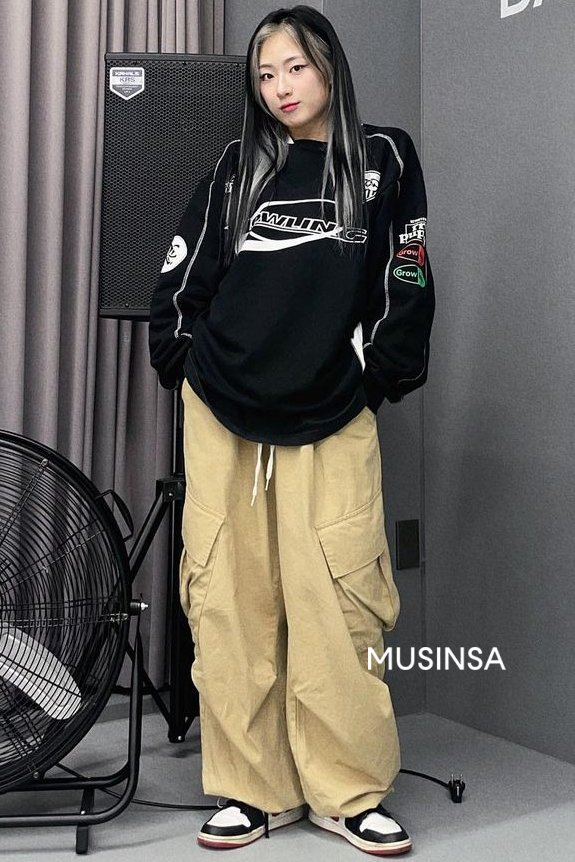Pants: (177, 406, 398, 807)
Shoes: (195, 797, 421, 859)
Top: (148, 122, 433, 421)
